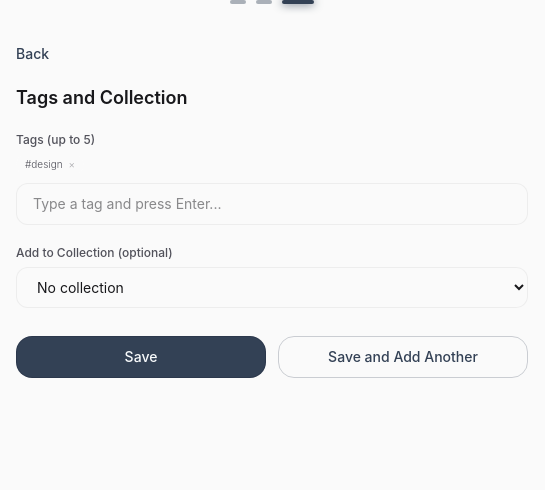
Test case: AddContentStepper save flow › shows an actionable error and keeps form values after a failed save
The width and height of the screenshot is (545, 490).
Click the button "Save" at (141, 357), box [16, 336, 266, 378]
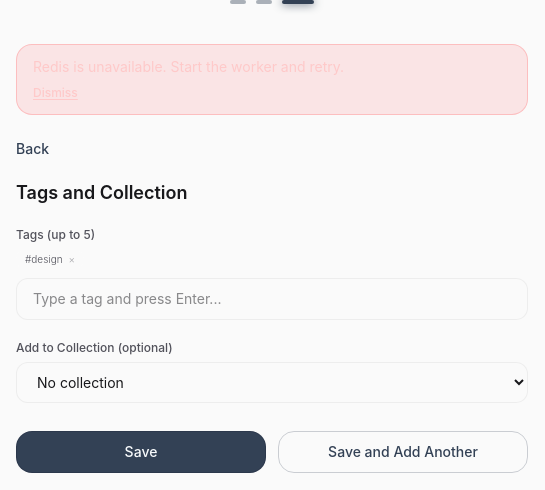
Expected: the message shows "Redis is unavailable", [33, 58, 344, 75]
